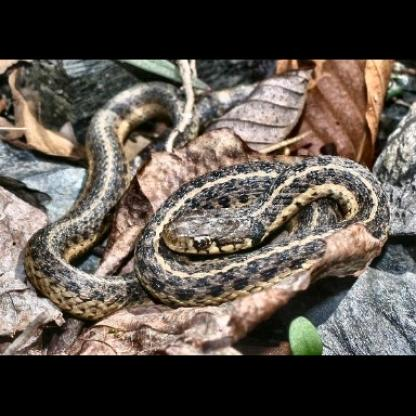Snake: (20, 111, 394, 325), (157, 196, 306, 270)
